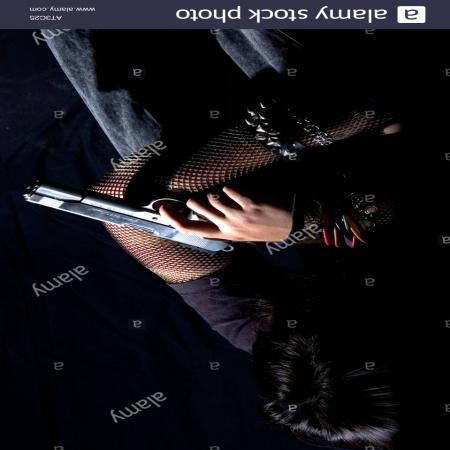Pistol: (22, 173, 273, 253)
